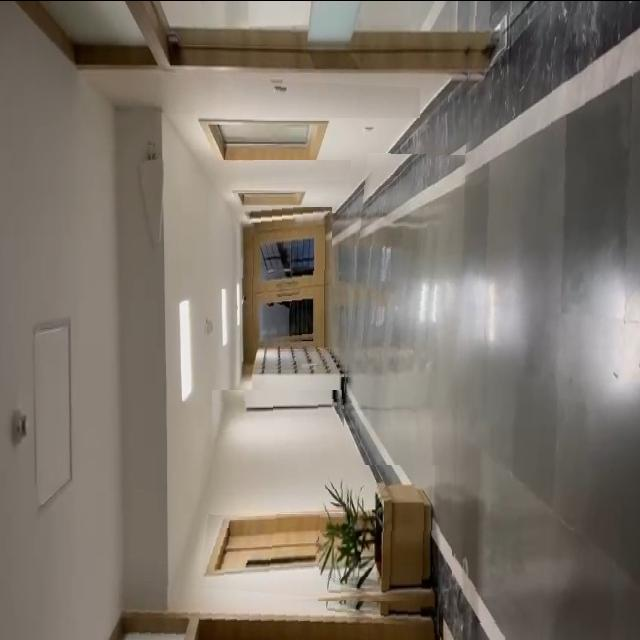door: (108, 579, 440, 640), (234, 206, 332, 346), (200, 513, 346, 586)
floor: (451, 0, 640, 640), (343, 152, 482, 408)
furniture: (318, 464, 452, 600)
wall: (212, 389, 350, 514), (151, 73, 420, 117), (210, 159, 351, 186)
